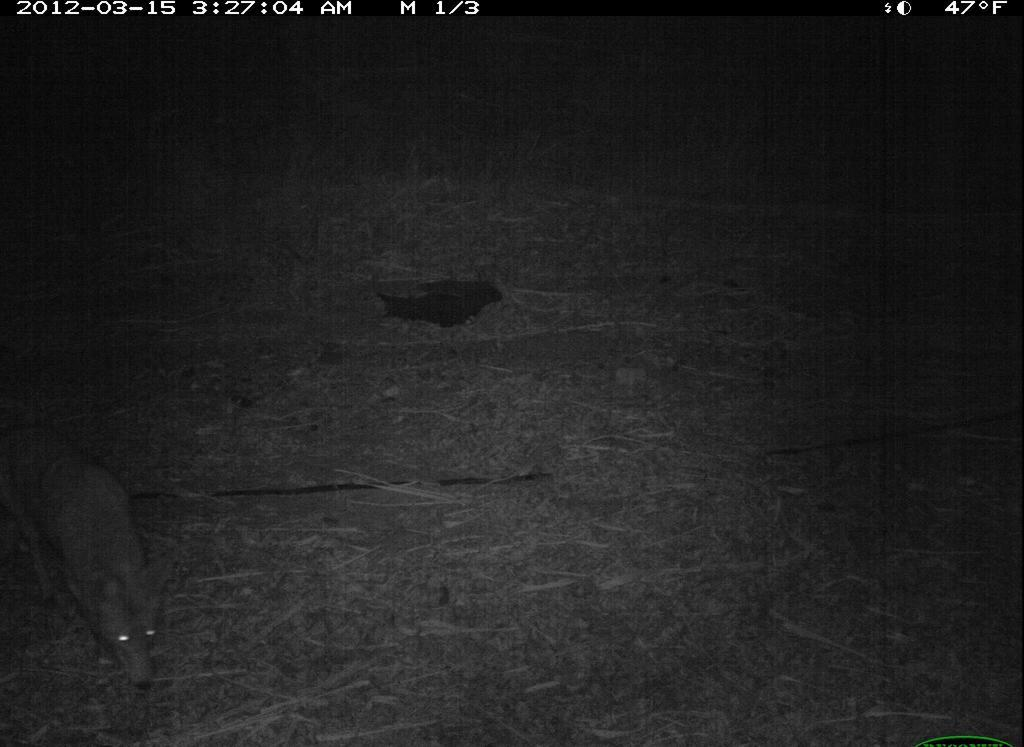coyote: (2, 409, 184, 705)
